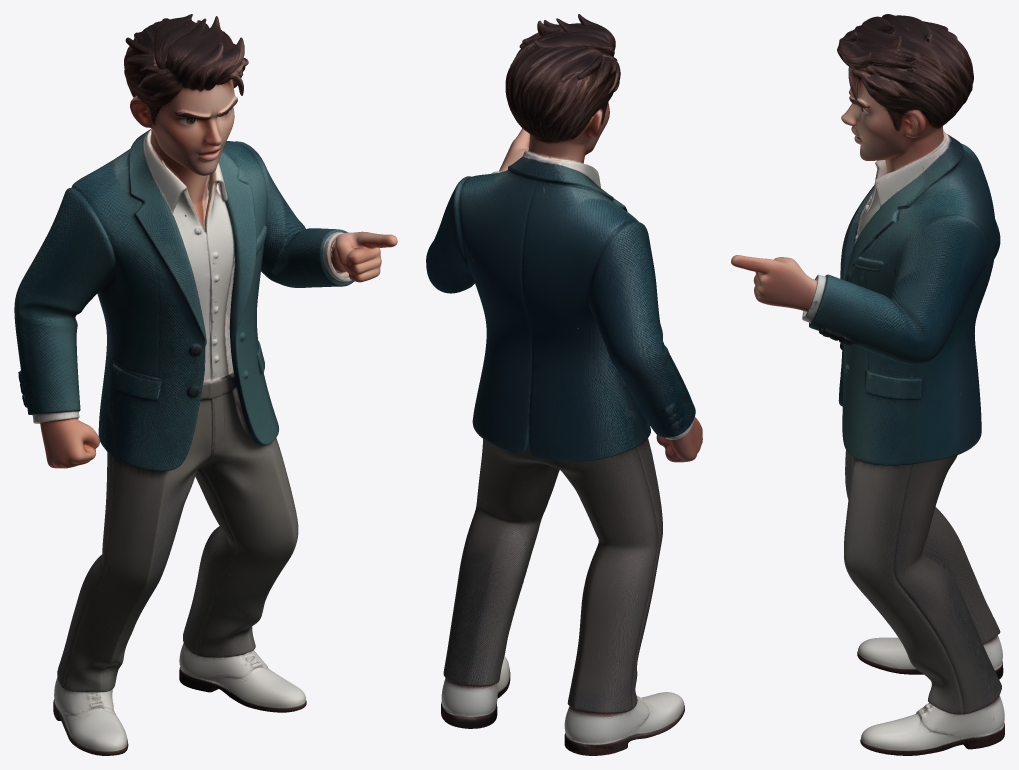
The model's file is controller_part.glb.
3 views of the same model, side by side, from view 1: azimuth 30°, elevation 25°; view 2: azimuth 150°, elevation 25°; view 3: azimuth 270°, elevation 25° (orthographic). The views are drawn at different scales.
Size of the model in its own units: 0.7853 by 1.9 by 0.6853.
1 material, 1 textured.
